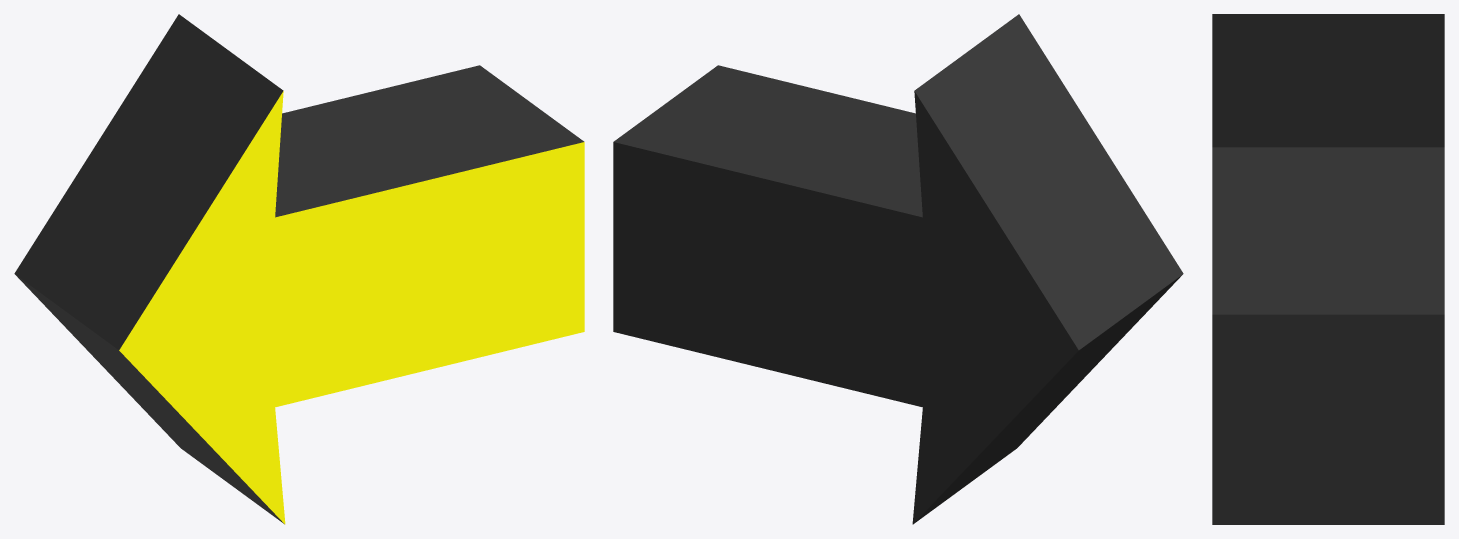
Rendered from arrow.glb.
3 views of the same model, side by side, from view 1: azimuth 30°, elevation 25°; view 2: azimuth 150°, elevation 25°; view 3: azimuth 270°, elevation 25° (orthographic). The views are drawn at different scales.
Parts seen in each view (by area): view 1: Cube; view 2: Cube; view 3: Cube.
Part boxes in pixels (<box>): Cube: <box>14,14,584,524</box>; Cube: <box>613,14,1183,524</box>; Cube: <box>1212,14,1444,524</box>.
Size of the model in its own units: 5.13 by 4.58 by 2.
